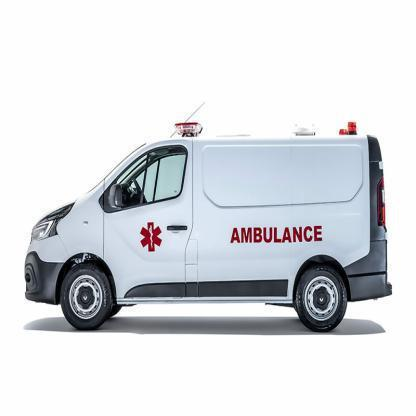Ambulance - v1 Ambulance last generate: (19, 112, 400, 341)
